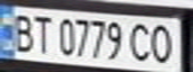0: (54, 15, 75, 56)
7: (87, 17, 106, 60), (72, 16, 90, 57)
9: (103, 18, 127, 61)
B: (6, 10, 39, 53)
C: (124, 20, 157, 63)
O: (145, 20, 181, 65)
T: (30, 11, 57, 55)
